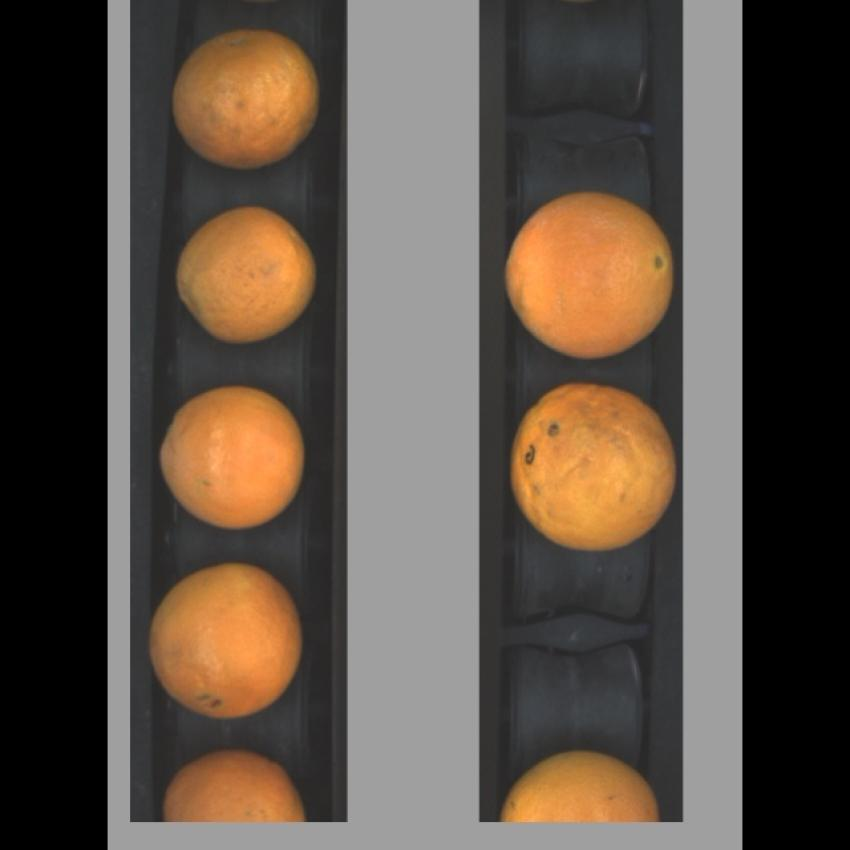Mal estado: (499, 186, 683, 366), (501, 377, 679, 558), (148, 553, 310, 724), (156, 381, 316, 538), (166, 25, 328, 175), (169, 195, 322, 352), (499, 740, 669, 822), (158, 741, 312, 825)
